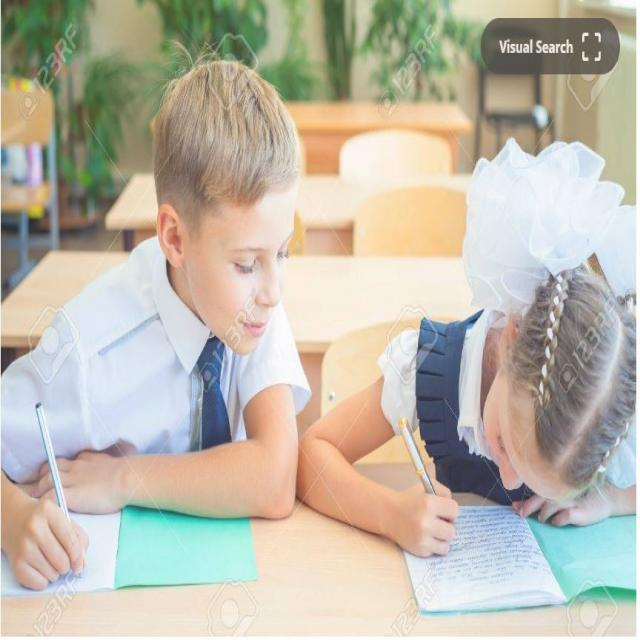cheating: (0, 45, 316, 606)
good: (315, 247, 640, 620)
